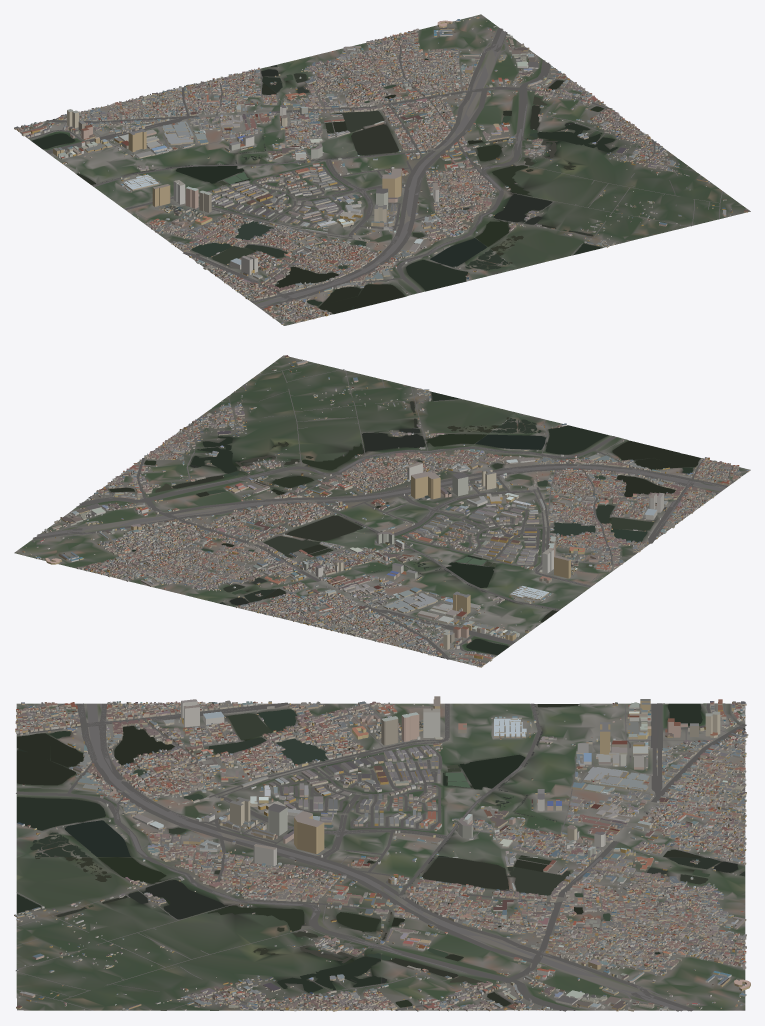
The picture shows the model from 3 angles, top to bottom: view 1: azimuth 30°, elevation 25°; view 2: azimuth 150°, elevation 25°; view 3: azimuth 270°, elevation 25°; orthographic projection. The views are drawn at different scales.
Visible parts, largest first — view 1: ground, buildings, water, roads; view 2: ground, buildings, water, roads; view 3: ground, buildings, water, roads.
Part boxes in pixels (x1=…): ground: x1=19, y1=14, x2=750, y2=325; buildings: x1=14, y1=16, x2=747, y2=324; water: x1=31, y1=58, x2=618, y2=313; roads: x1=25, y1=28, x2=722, y2=322; ground: x1=14, y1=355, x2=750, y2=666; buildings: x1=22, y1=355, x2=749, y2=667; water: x1=109, y1=392, x2=700, y2=657; roads: x1=33, y1=363, x2=747, y2=661; ground: x1=16, y1=703, x2=745, y2=1010; buildings: x1=14, y1=696, x2=750, y2=1011; water: x1=17, y1=703, x2=745, y2=1007; roads: x1=16, y1=702, x2=746, y2=1011.
Size of the model in its own units: 2822 by 121 by 2836.
